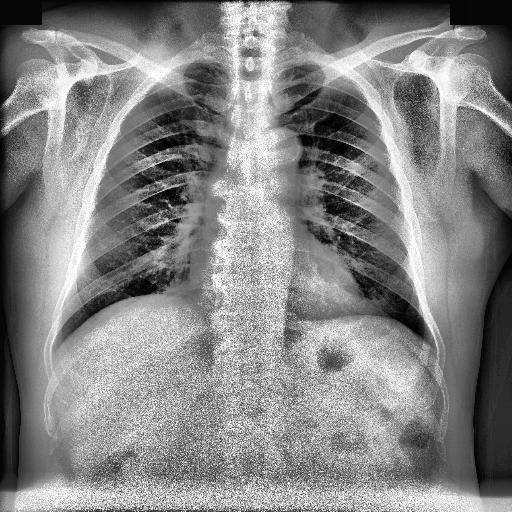0- Aortic enlargement: (256, 126, 302, 185), (256, 127, 304, 165), (265, 128, 299, 160)
